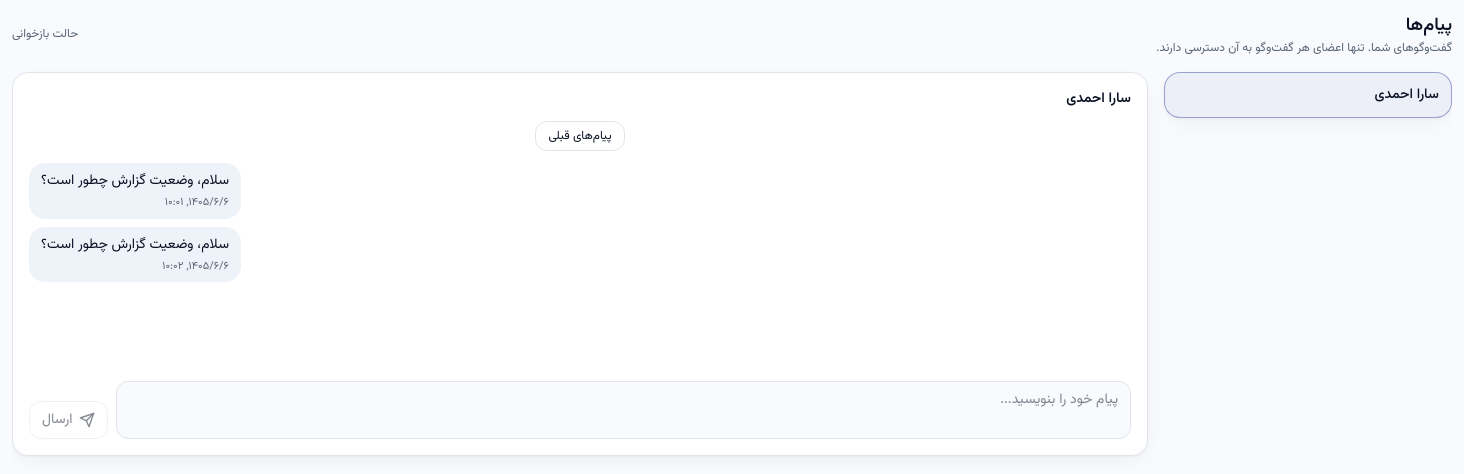
Test: CoreMessagesView › paginates older messages using the oldest held id as the cursor
Click the button "پیام‌های قبلی".
click(580, 136)  # box [535,121,625,151]
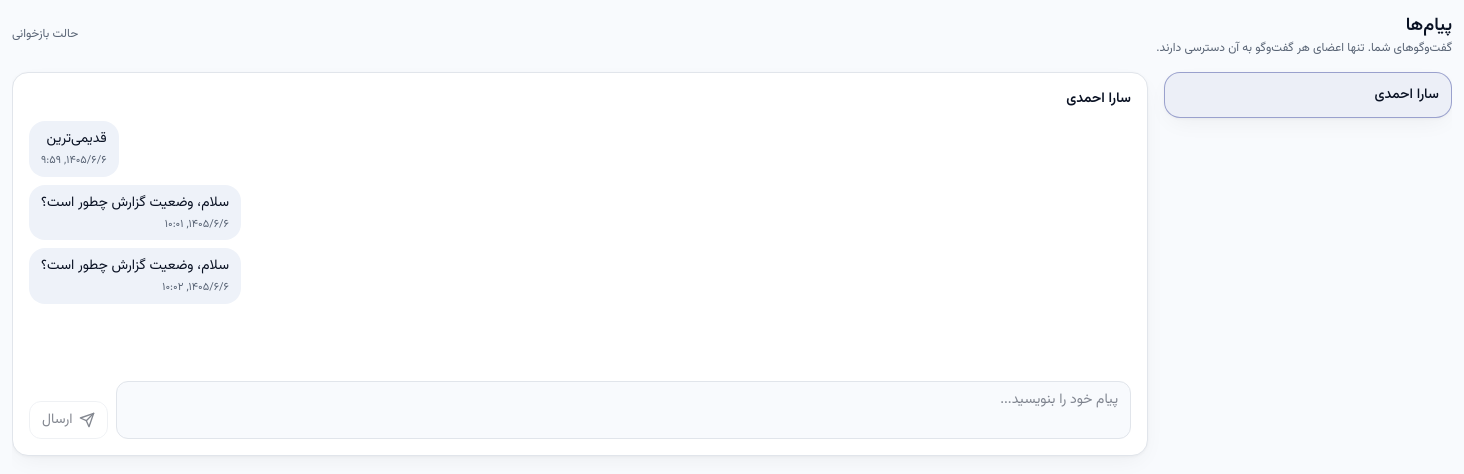
Now the text "قدیمی‌ترین" is shown, box [41,129,107,149]
